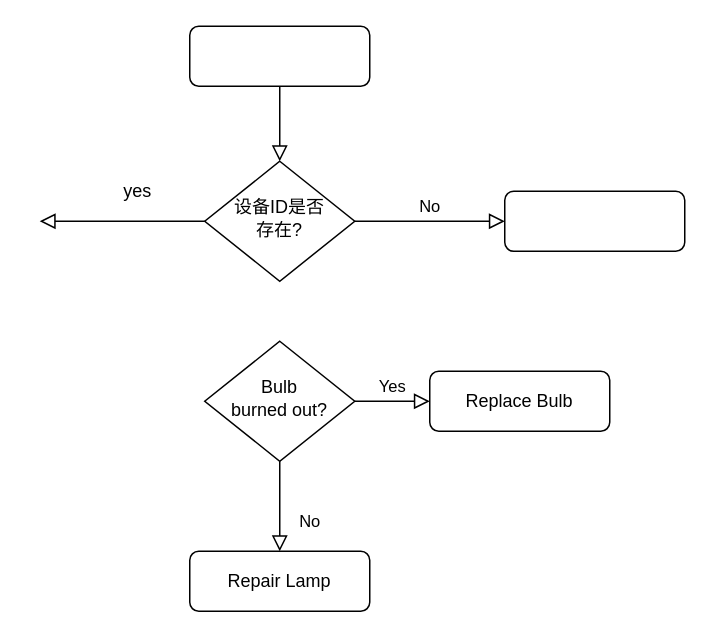
Some shapes in this 711 by 638 pixel diagram are drawn without their labels. Here are the shapes that lost their labels. From the top down, the box of each, then its label:
(188, 25, 370, 86): 注册信息
(503, 190, 685, 251): Plug in lamp
